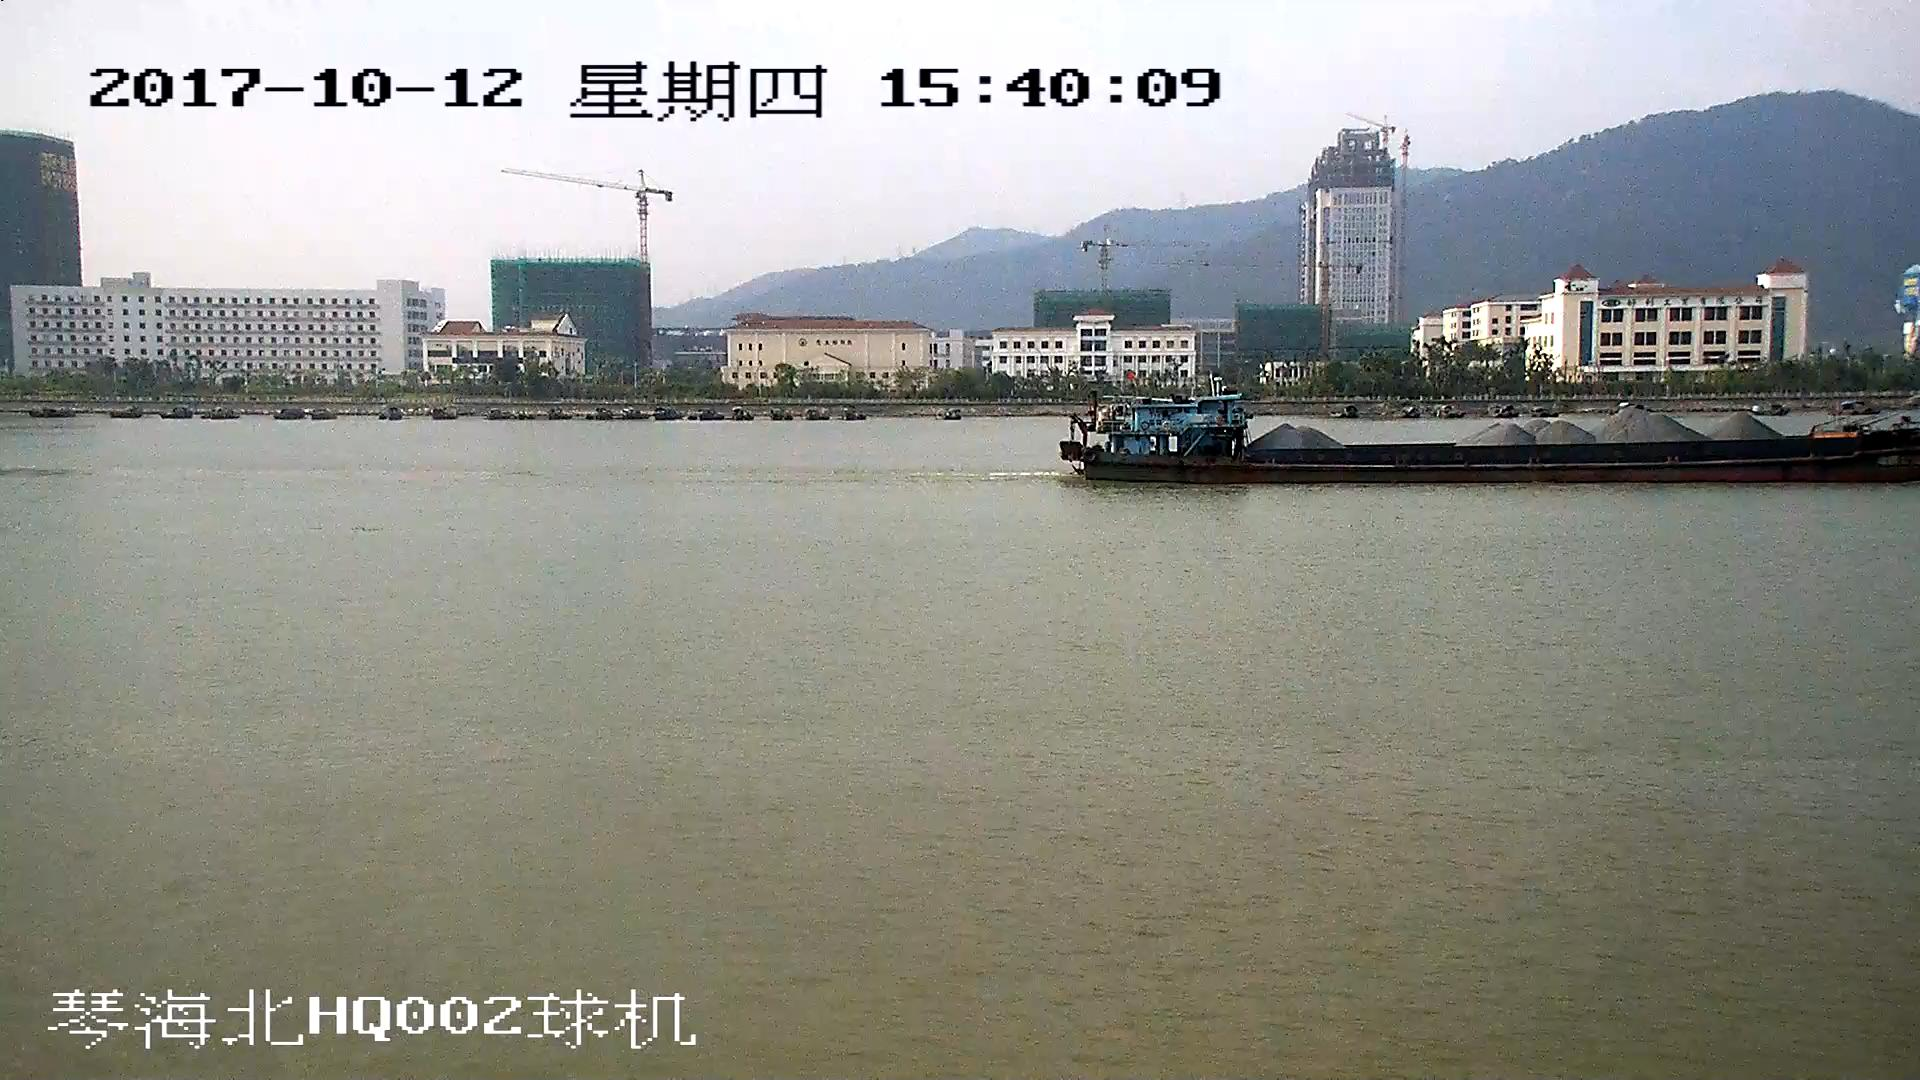ore carrier: (1059, 389, 1920, 485)
